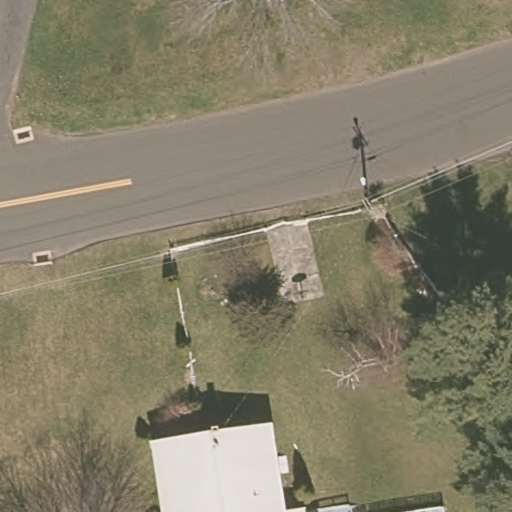DT: (360, 198, 383, 222)
